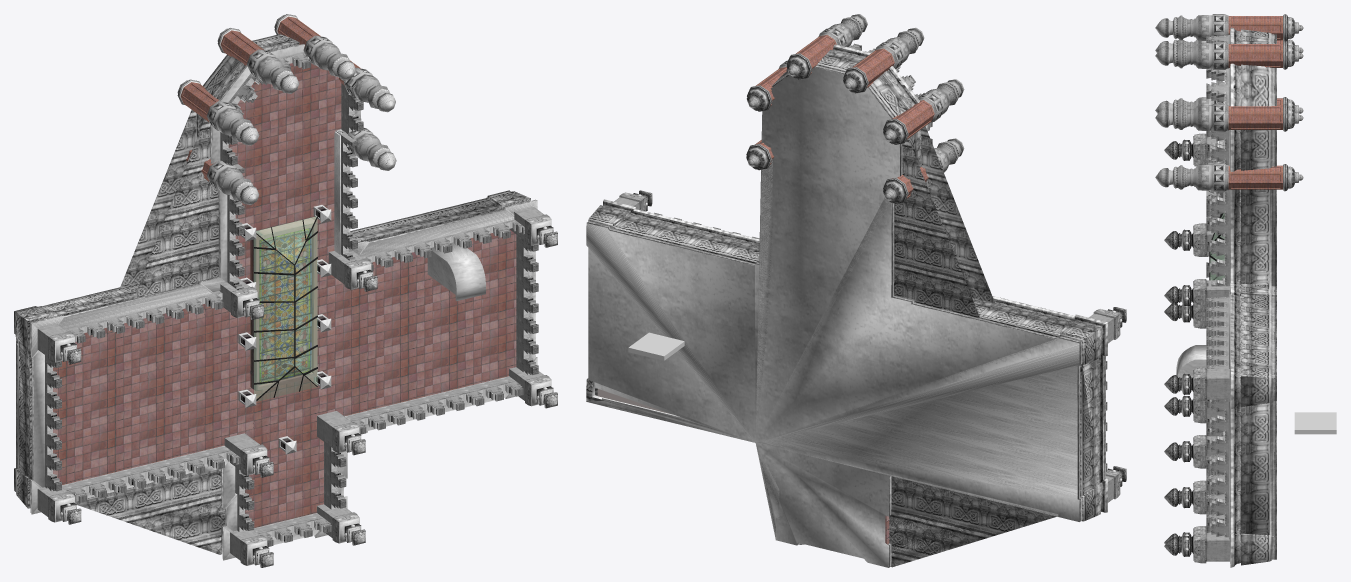
Rendered from castelo_mourisco_piso5.fbx.
3 views of the same model, side by side, from view 1: azimuth 30°, elevation 25°; view 2: azimuth 150°, elevation 25°; view 3: azimuth 270°, elevation 25° (orthographic).
Parts seen in each view (by area): view 1: piso5, Acabamento Piso 5, Amurada arvore.001, Amurada pilares.001, telhado_vitral, vitral_teto_piso4.001, vitral_teto_piso4, saida_terraco, Detalhe Torre Oeste 3, Detalhe Torre Oeste 4, Detalhe Torre Oeste 2, Detalhe Torre Oeste 6 (+2 smaller); view 2: Acabamento Piso 5, Detalhe Torre Oeste 4, Detalhe Torre Oeste 3, Detalhe Torre Oeste 2, Amurada pilares.001, Detalhe Torre Oeste 6, Cubo.003, Detalhe Torre Oeste 1; view 3: Acabamento Piso 5, Amurada pilares.001, Amurada arvore.001, Detalhe Torre Oeste 1, Detalhe Torre Oeste 2, Detalhe Torre Oeste 5, Detalhe Torre Oeste 3, Cubo.003, saida_terraco, Detalhe Torre Oeste 6, Detalhe Torre Oeste 4, telhado_vitral.
Boxes of the visible parts, x1=… form: piso5: x1=53, y1=63, x2=516, y2=527; Acabamento Piso 5: x1=14, y1=34, x2=537, y2=560; Amurada arvore.001: x1=45, y1=52, x2=538, y2=546; Amurada pilares.001: x1=37, y1=207, x2=557, y2=567; telhado_vitral: x1=254, y1=216, x2=317, y2=401; vitral_teto_piso4.001: x1=259, y1=228, x2=311, y2=384; vitral_teto_piso4: x1=250, y1=218, x2=316, y2=391; saida_terraco: x1=427, y1=242, x2=485, y2=300; Detalhe Torre Oeste 3: x1=217, y1=28, x2=299, y2=93; Detalhe Torre Oeste 4: x1=177, y1=79, x2=259, y2=145; Detalhe Torre Oeste 2: x1=274, y1=14, x2=355, y2=79; Detalhe Torre Oeste 6: x1=186, y1=150, x2=259, y2=204; Acabamento Piso 5: x1=586, y1=44, x2=1107, y2=567; Detalhe Torre Oeste 4: x1=883, y1=79, x2=964, y2=144; Detalhe Torre Oeste 3: x1=843, y1=27, x2=924, y2=93; Detalhe Torre Oeste 2: x1=786, y1=14, x2=867, y2=79; Amurada pilares.001: x1=614, y1=190, x2=1126, y2=502; Detalhe Torre Oeste 6: x1=883, y1=138, x2=964, y2=204; Cubo.003: x1=628, y1=332, x2=684, y2=360; Detalhe Torre Oeste 1: x1=746, y1=60, x2=787, y2=111; Acabamento Piso 5: x1=1229, y1=27, x2=1276, y2=567; Amurada pilares.001: x1=1164, y1=133, x2=1229, y2=563; Amurada arvore.001: x1=1206, y1=35, x2=1229, y2=537; Detalhe Torre Oeste 1: x1=1155, y1=104, x2=1303, y2=131; Detalhe Torre Oeste 2: x1=1155, y1=42, x2=1303, y2=69; Detalhe Torre Oeste 5: x1=1155, y1=163, x2=1303, y2=191; Detalhe Torre Oeste 3: x1=1155, y1=14, x2=1303, y2=41; Cubo.003: x1=1294, y1=412, x2=1336, y2=434; saida_terraco: x1=1176, y1=345, x2=1211, y2=392; Detalhe Torre Oeste 6: x1=1155, y1=97, x2=1303, y2=113; Detalhe Torre Oeste 4: x1=1155, y1=39, x2=1303, y2=53; telhado_vitral: x1=1209, y1=213, x2=1224, y2=336.
Bounding box in the file's own units: 3021 × 2878 × 927.
